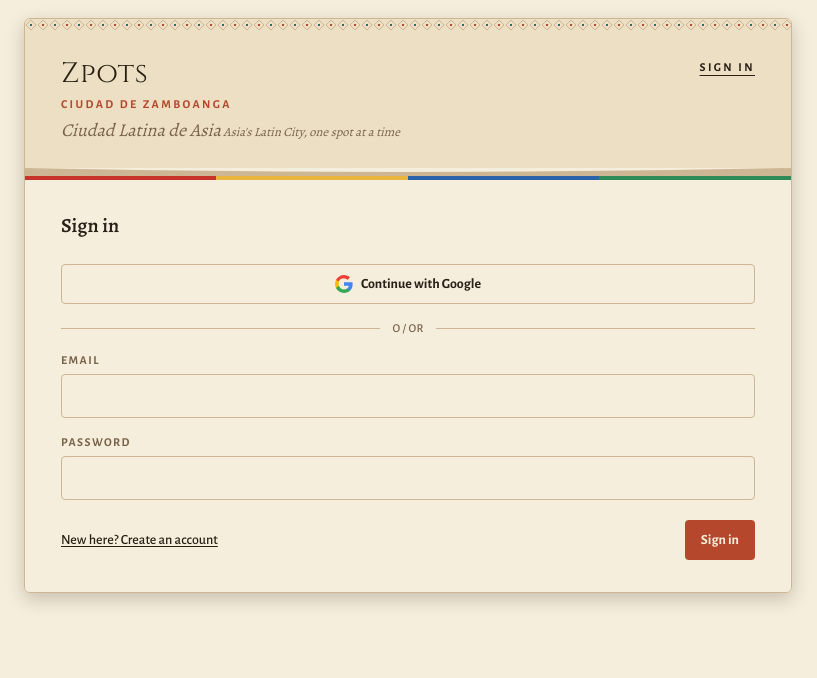
Test case: Login page -- Google sign-in › shows the mapped error and re-enables the button when signInWithGoogle rejects
Click the button "Continue with Google". click: {"x": 408, "y": 284}
box: [61,264,755,304]
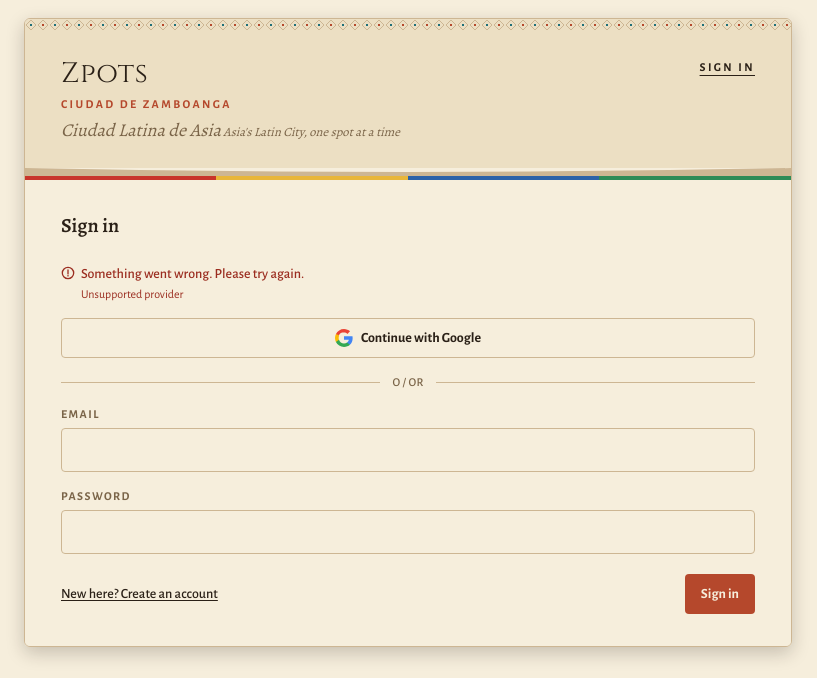
Expected: the button "Continue with Google" is enabled, [61,318,755,358]
Result: the text "Something went wrong. Please try again." is shown at [81,264,304,284]
